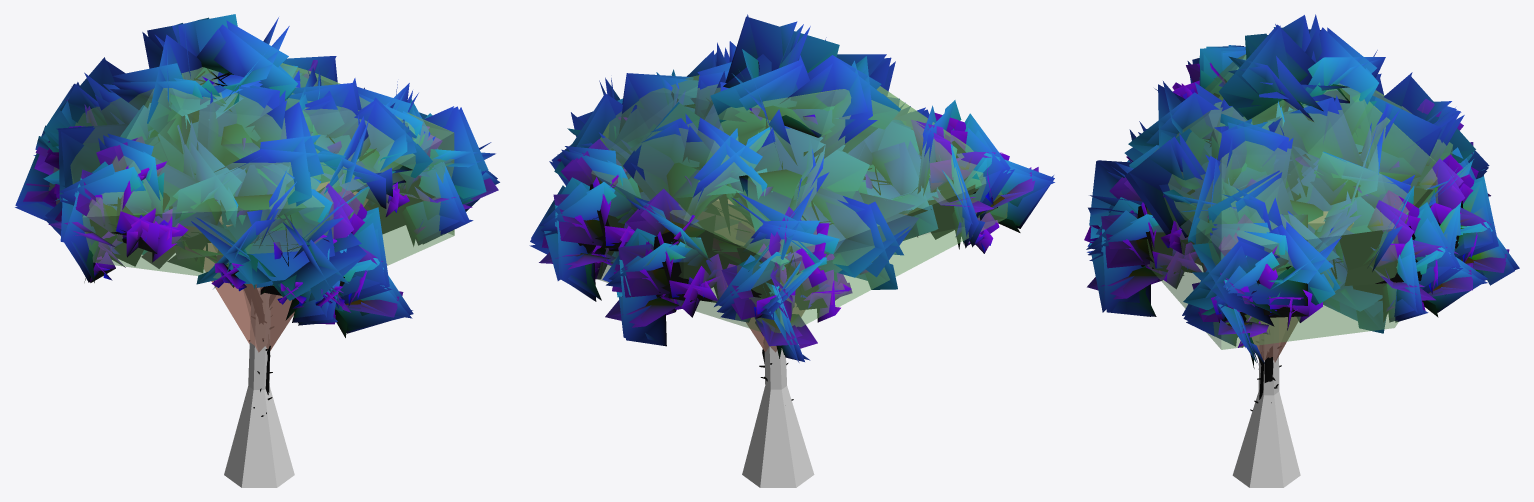
The model's file is maritime_pine.dae.
The picture shows the model from 3 angles, left to right: view 1: azimuth 30°, elevation 25°; view 2: azimuth 150°, elevation 25°; view 3: azimuth 270°, elevation 25°; orthographic projection. The views are drawn at different scales.
Visible parts, largest first — view 1: maritime_pine_b1400, Colmesh-1, maritime_pine_b850, maritime_pine_b400; view 2: Colmesh-1, maritime_pine_b1400, maritime_pine_b850, maritime_pine_b400; view 3: maritime_pine_b1400, Colmesh-1, maritime_pine_b400, maritime_pine_b850.
Boxes of the visible parts, x1,y1,x2,y2 form: maritime_pine_b1400: (15, 14, 499, 416); Colmesh-1: (48, 63, 454, 487); maritime_pine_b850: (15, 24, 497, 394); maritime_pine_b400: (23, 14, 497, 392); Colmesh-1: (587, 75, 1007, 487); maritime_pine_b1400: (529, 14, 1054, 400); maritime_pine_b850: (530, 49, 1054, 361); maritime_pine_b400: (540, 16, 1048, 363); maritime_pine_b1400: (1084, 14, 1514, 411); Colmesh-1: (1146, 54, 1452, 487); maritime_pine_b400: (1087, 15, 1514, 397); maritime_pine_b850: (1084, 46, 1519, 399).
Bounding box in the file's own units: 13.54 × 11.43 × 12.67.
